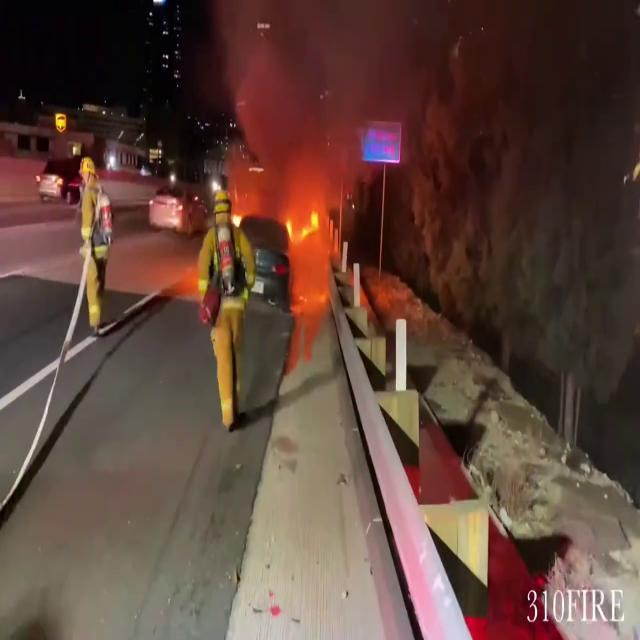Fire: (283, 199, 322, 253)
Smoke: (206, 0, 424, 185)
